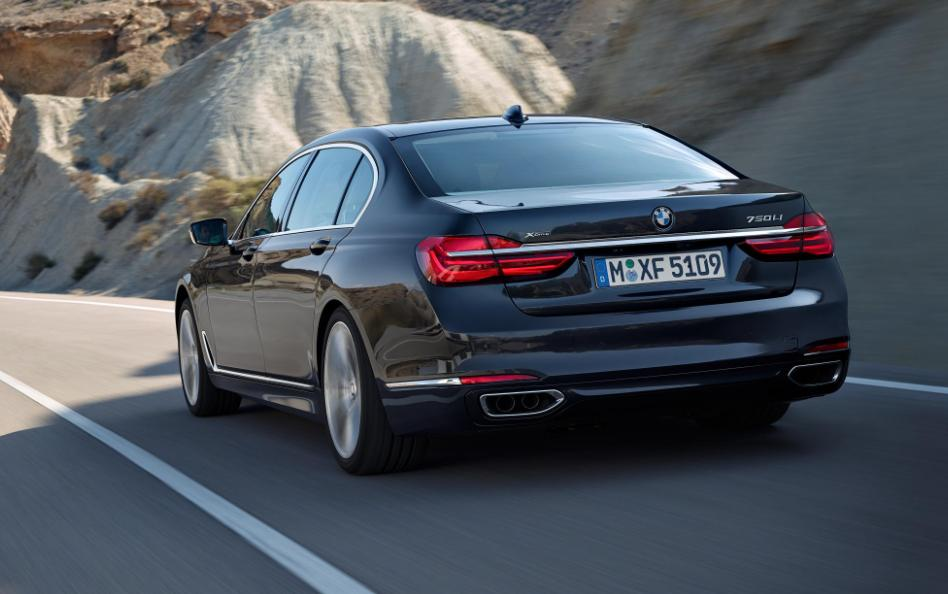car: (129, 104, 885, 494)
